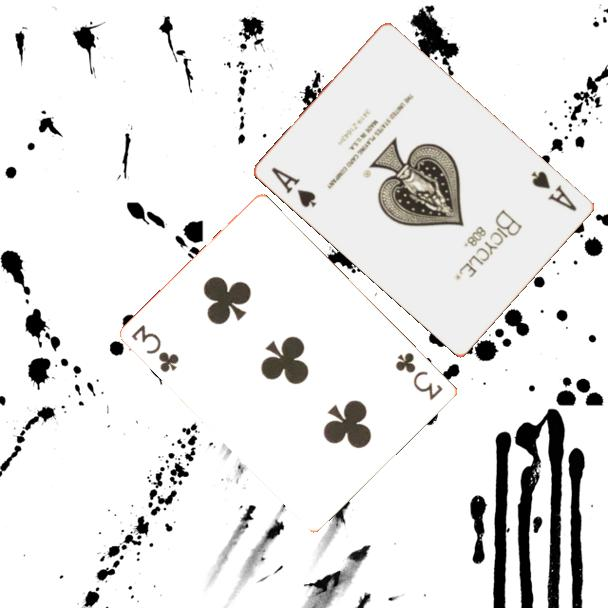c03: (392, 348, 447, 403), (128, 321, 182, 376)
s01: (528, 167, 580, 215), (268, 164, 320, 211)
